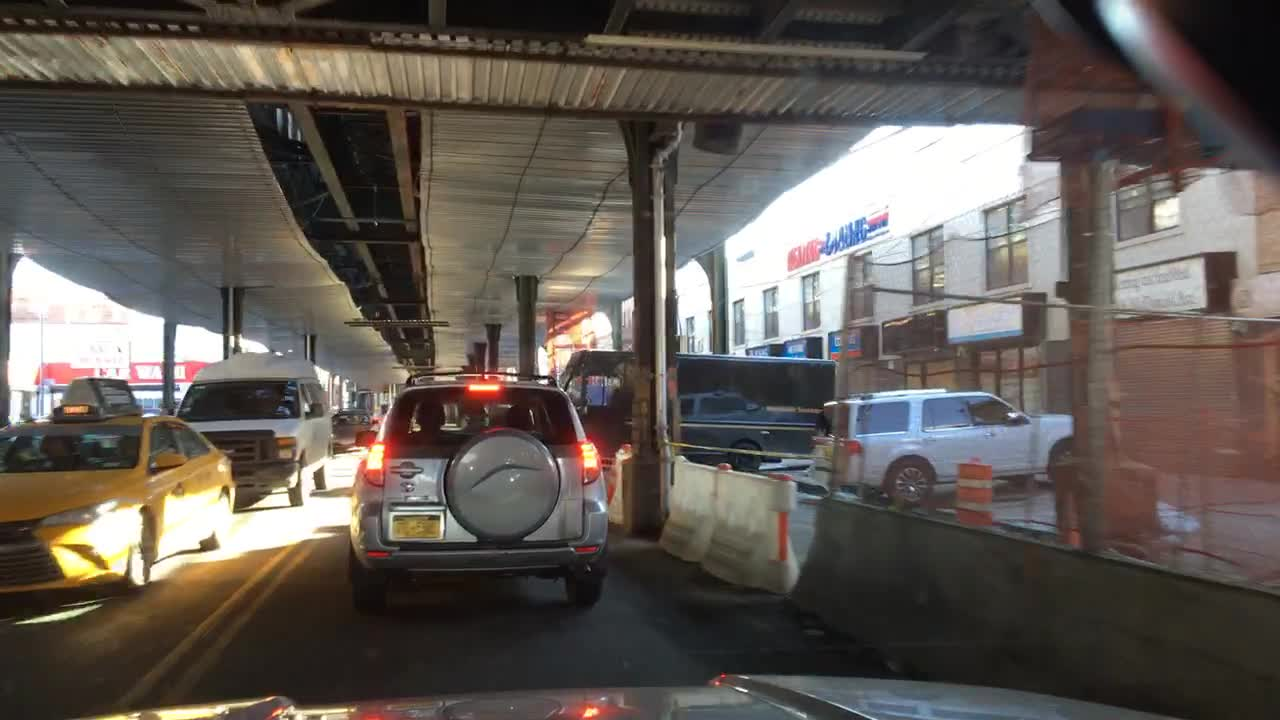bus: (562, 347, 840, 465)
car: (347, 367, 610, 606), (0, 374, 238, 606), (812, 386, 1074, 503), (169, 349, 332, 506), (662, 381, 822, 472), (328, 406, 378, 452)
